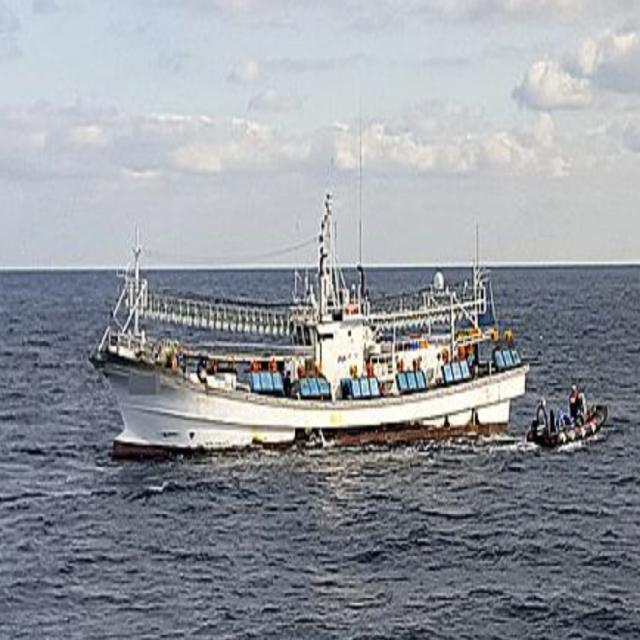Ship: (83, 184, 537, 483)
